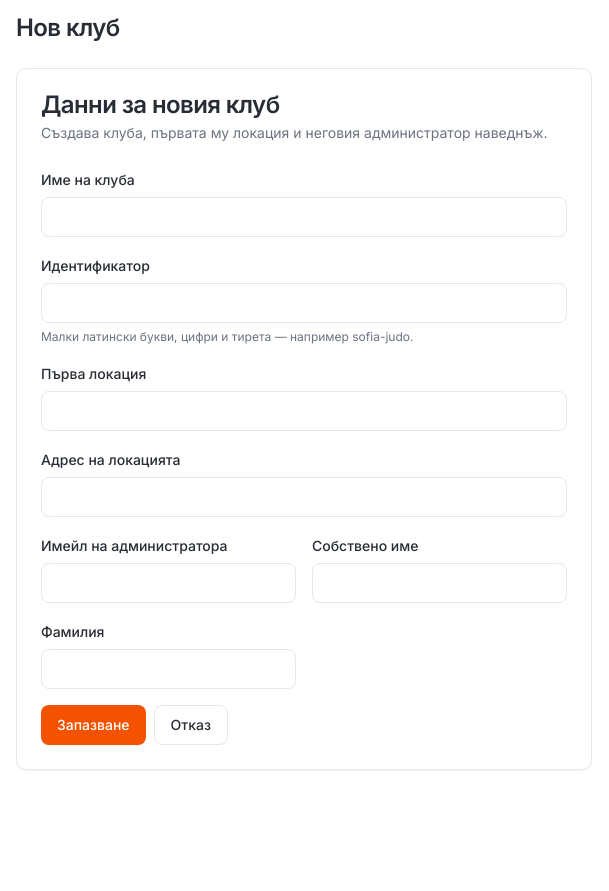
Test: NewTenantPage › says what is wrong and wires the a11y attributes when submitted empty
What coordinates should you click on to do the following:
click the button "Запазване"
I would click on:
 (93, 725)
Its box is top-left (41, 705), bottom-right (146, 745).
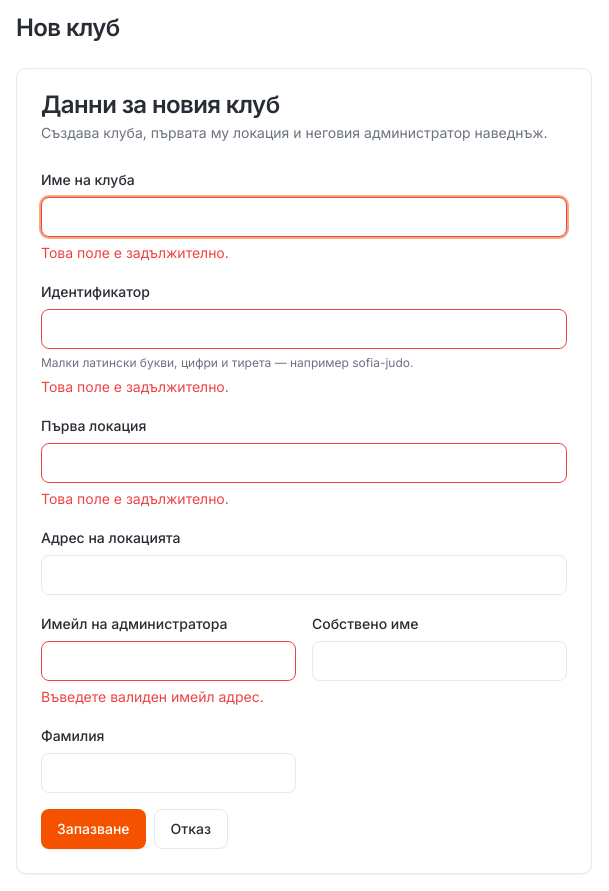
Result: the text "Това поле е задължително." below "Име на клуба" is shown at top-left (41, 244), bottom-right (229, 261)
Result: the text "Въведете валиден имейл адрес." is shown at top-left (41, 687), bottom-right (296, 707)
